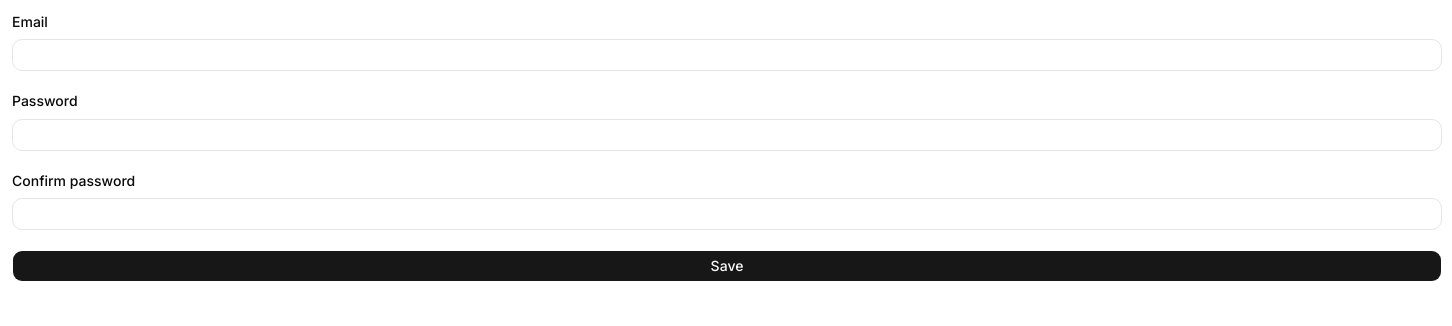
Test: useAuthForm › keeps a field's errors hidden while typing until that field blurs or the form submits
The image size is (1452, 326).
Type "user@example.com" into the field labelled "Email" at (727, 55), box x1=12 y1=39 x2=1442 y2=71
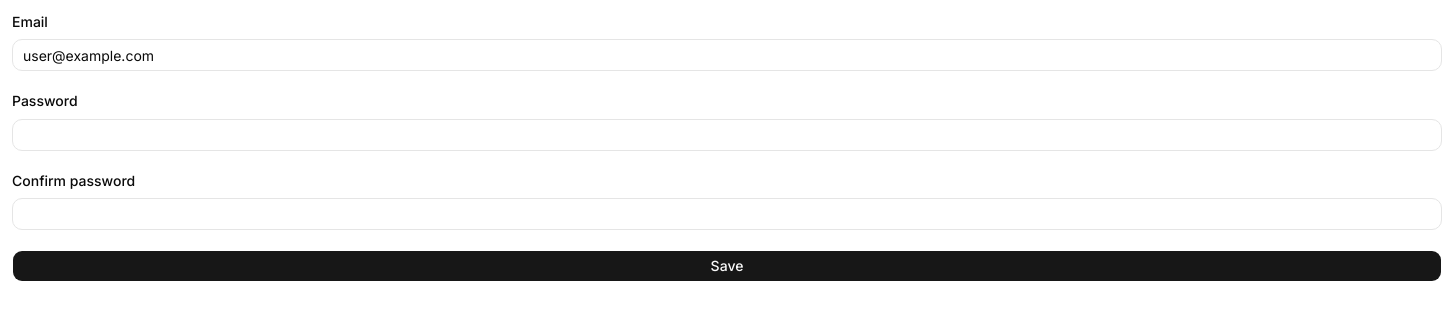
Type "c" into the password field labelled "Password" at (727, 134), box x1=12 y1=118 x2=1442 y2=150
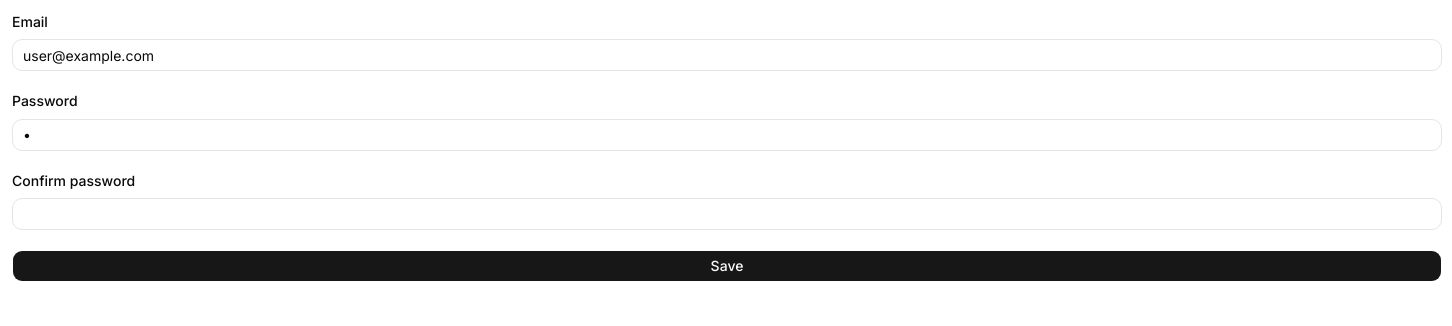
Expected: the text "Too short" is not shown
Leave the password field labelled "Password", box x1=12 y1=118 x2=1442 y2=150
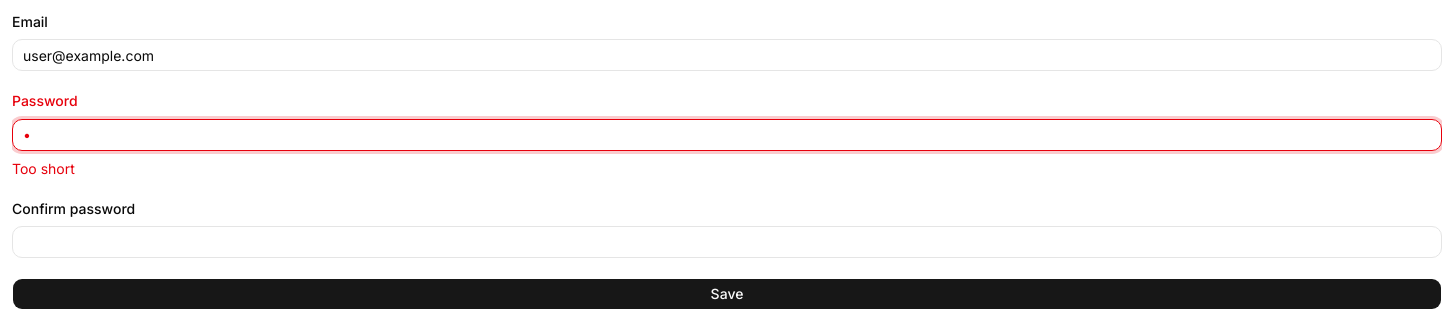
Expected: the text "Too short" is shown, x1=12 y1=160 x2=75 y2=176
